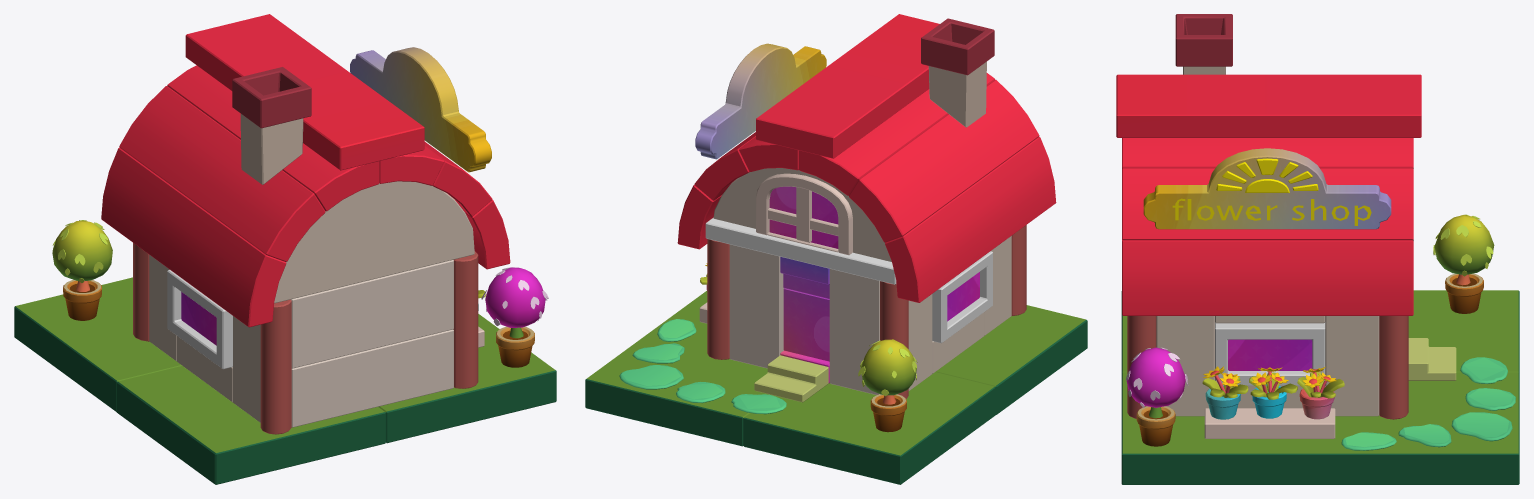
The picture shows the model from 3 angles, left to right: view 1: azimuth 30°, elevation 25°; view 2: azimuth 150°, elevation 25°; view 3: azimuth 270°, elevation 25°; orthographic projection. The views are drawn at different scales.
Visible parts, largest first — view 1: Cube_L3_10, Cube_L1_11, Cube_L1_4, Cube_L1_8, Cube_L1_12, Cube_L2_12, Cube_L3_9, Cube_L2_13, Cube_L3_8, Cube_L1, Cube_L1_10, Cube_L1_9 (+12 smaller); view 2: Cube_L3_9, Cube_L1_4, Cube_L1_11, Cube_L1_12, Cube_L3_8, Cube_L3_10, Cube_L1, Cube_L2_8, Cube_L1_5, Cube_L1_10, Cube_L2_16, Cube_L1_9 (+22 smaller); view 3: Cube_L3_8, Cube_L1_1, Cube_L1_4, Cube_L1, Cube_L1_2, Cube_L1_3, Cube_L3_9, Cube_L2, Cube_L2_6, Cube_L3_1, Cube_L3_11, Cube_L2_3 (+15 smaller).
Boxes of the visible parts, x1=… form: Cube_L3_10: x1=116, y1=366, x2=385, y2=484; Cube_L1_11: x1=119, y1=86, x2=325, y2=261; Cube_L1_4: x1=185, y1=14, x2=424, y2=170; Cube_L1_8: x1=274, y1=181, x2=474, y2=303; Cube_L1_12: x1=101, y1=147, x2=286, y2=327; Cube_L2_12: x1=290, y1=260, x2=453, y2=368; Cube_L3_9: x1=14, y1=277, x2=181, y2=411; Cube_L2_13: x1=291, y1=329, x2=453, y2=427; Cube_L3_8: x1=378, y1=314, x2=556, y2=443; Cube_L1: x1=350, y1=47, x2=491, y2=172; Cube_L1_10: x1=232, y1=67, x2=311, y2=184; Cube_L1_9: x1=167, y1=65, x2=379, y2=211; Cube_L3_9: x1=743, y1=372, x2=995, y2=484; Cube_L1_4: x1=756, y1=14, x2=939, y2=158; Cube_L1_11: x1=849, y1=79, x2=1039, y2=242; Cube_L1_12: x1=885, y1=137, x2=1056, y2=302; Cube_L3_8: x1=585, y1=291, x2=773, y2=446; Cube_L3_10: x1=936, y1=305, x2=1087, y2=414; Cube_L1: x1=695, y1=43, x2=826, y2=159; Cube_L2_8: x1=729, y1=244, x2=783, y2=368; Cube_L1_5: x1=756, y1=173, x2=852, y2=255; Cube_L1_10: x1=921, y1=18, x2=994, y2=127; Cube_L2_16: x1=829, y1=269, x2=879, y2=394; Cube_L1_9: x1=799, y1=73, x2=994, y2=195; Cube_L3_8: x1=1121, y1=372, x2=1519, y2=484; Cube_L1_1: x1=1122, y1=240, x2=1413, y2=315; Cube_L1_4: x1=1116, y1=74, x2=1421, y2=137; Cube_L1: x1=1143, y1=148, x2=1391, y2=229; Cube_L1_2: x1=1122, y1=168, x2=1413, y2=240; Cube_L1_3: x1=1122, y1=138, x2=1413, y2=168; Cube_L3_9: x1=1408, y1=290, x2=1519, y2=372; Cube_L2: x1=1215, y1=322, x2=1325, y2=385; Cube_L2_6: x1=1325, y1=316, x2=1379, y2=416; Cube_L3_1: x1=1126, y1=347, x2=1188, y2=446; Cube_L3_11: x1=1433, y1=214, x2=1494, y2=313; Cube_L2_3: x1=1156, y1=316, x2=1214, y2=416.
Size of the model in its own units: 19.78 by 19.03 by 20.29.
